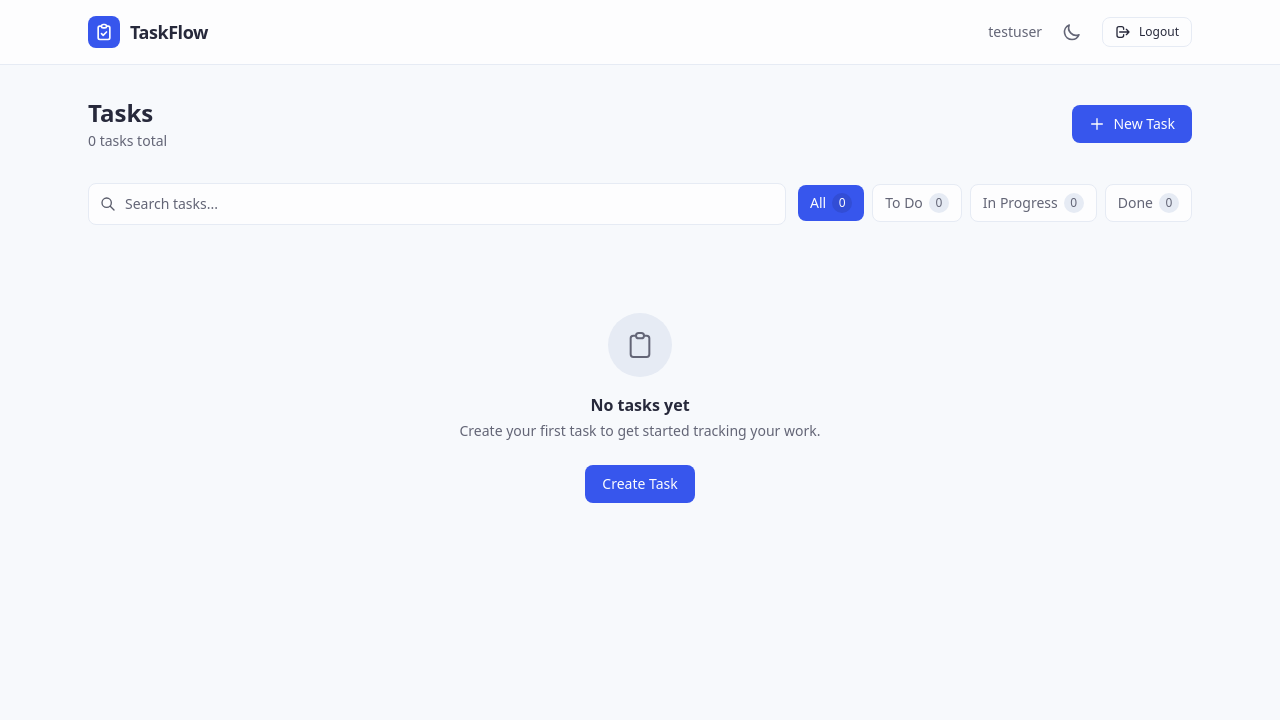
App › toggles dark mode when button is clicked
Click the button named "Switch to dark mode".
click(1072, 32)  # box [1054,14,1090,50]
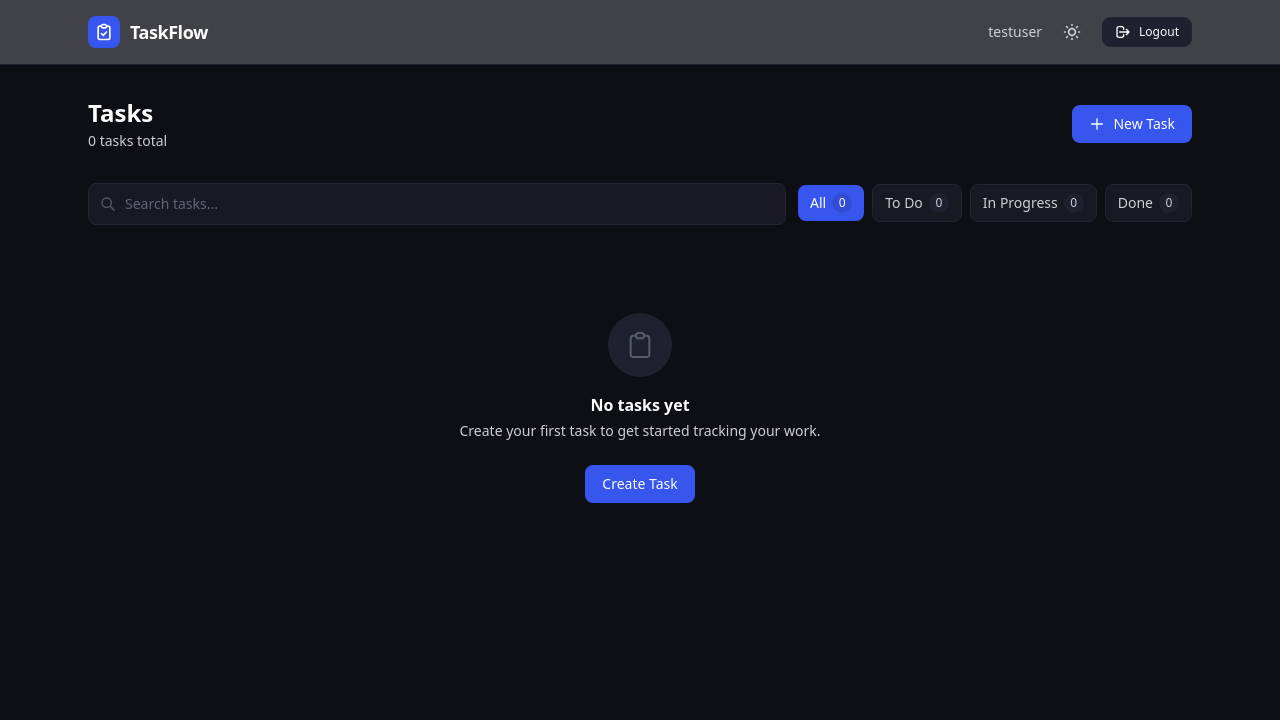
Expected: the button named "Switch to light mode" is shown, [1054,14,1090,50]
